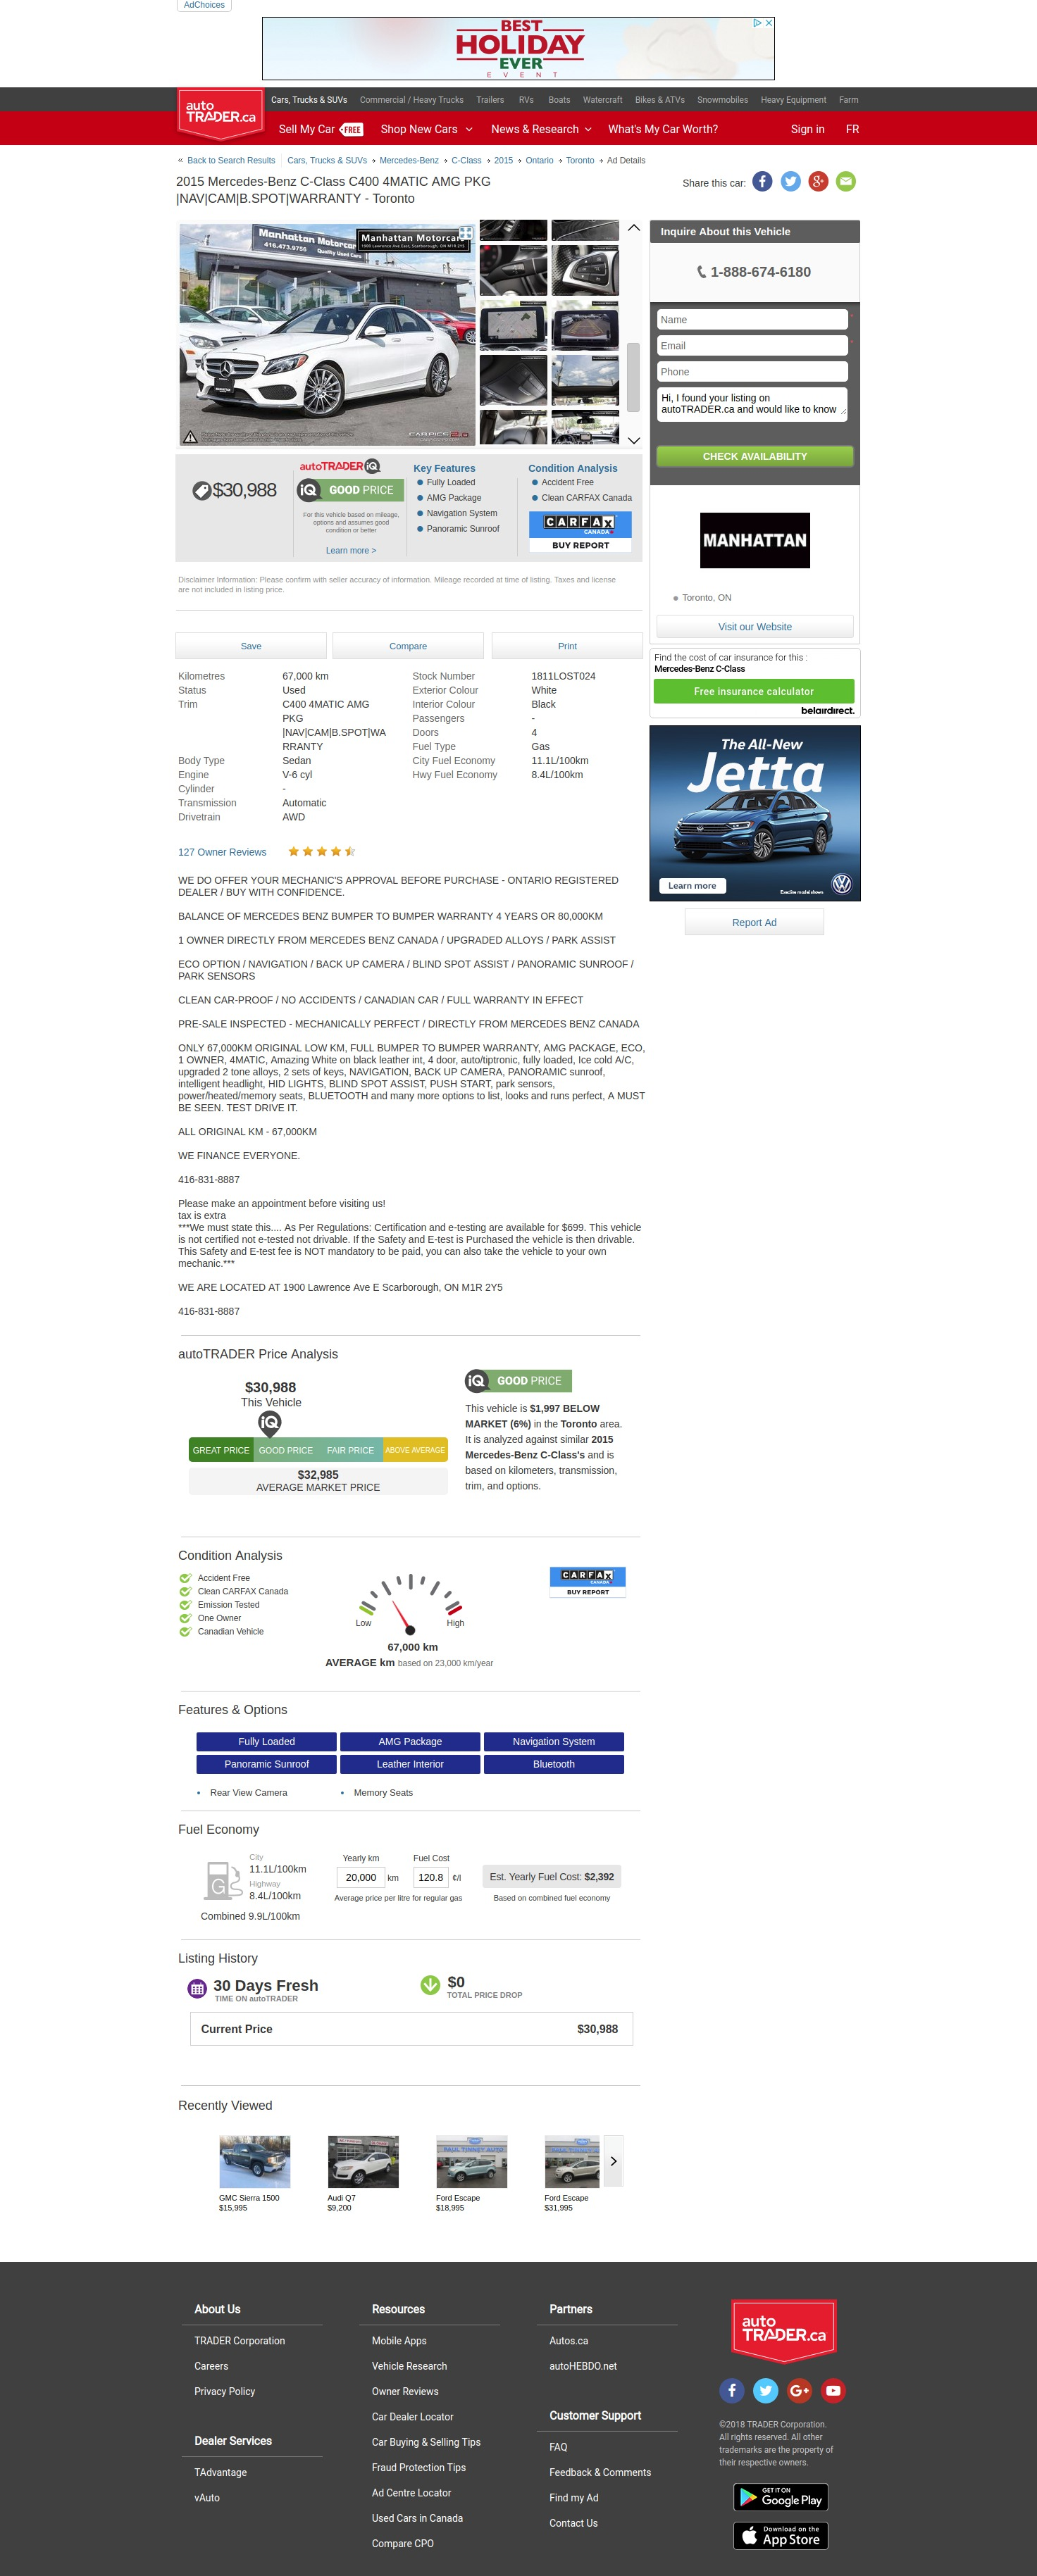car: (628, 437, 641, 445)
